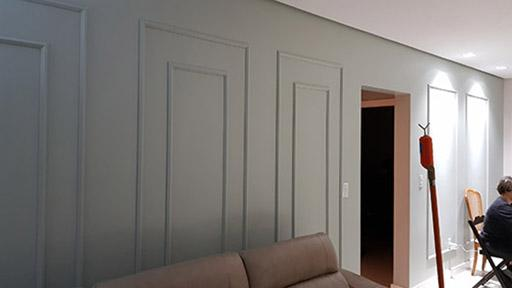Detector_Tensao_Contato: (416, 122, 435, 170)
Vara_Manobra: (426, 169, 446, 288)
